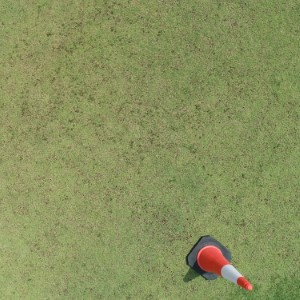traffic cone: (187, 235, 252, 290)
